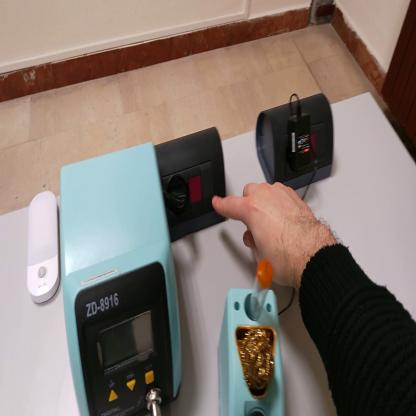hand: (213, 179, 318, 289)
socket: (157, 127, 230, 243), (256, 95, 335, 191)
welder base: (216, 257, 289, 414)
welder station: (56, 143, 184, 415)
